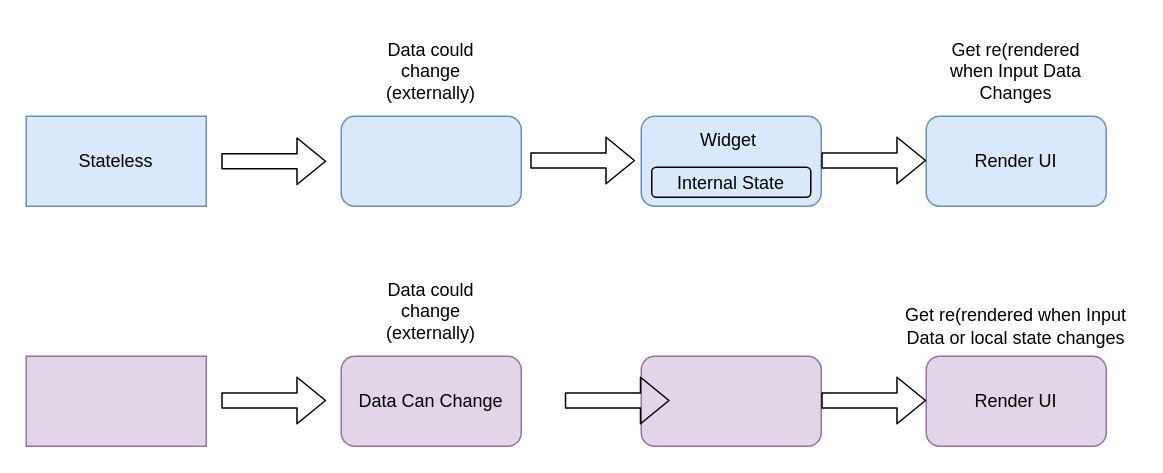
The diagram is 1163 pixels wide and 473 high, and some of its shapes have lost their labels. Each missing label, with the centre of its shape:
"Input" goes at (x=430, y=160).
"Stateful" goes at (x=115, y=400).
"Widgets" goes at (x=730, y=400).
